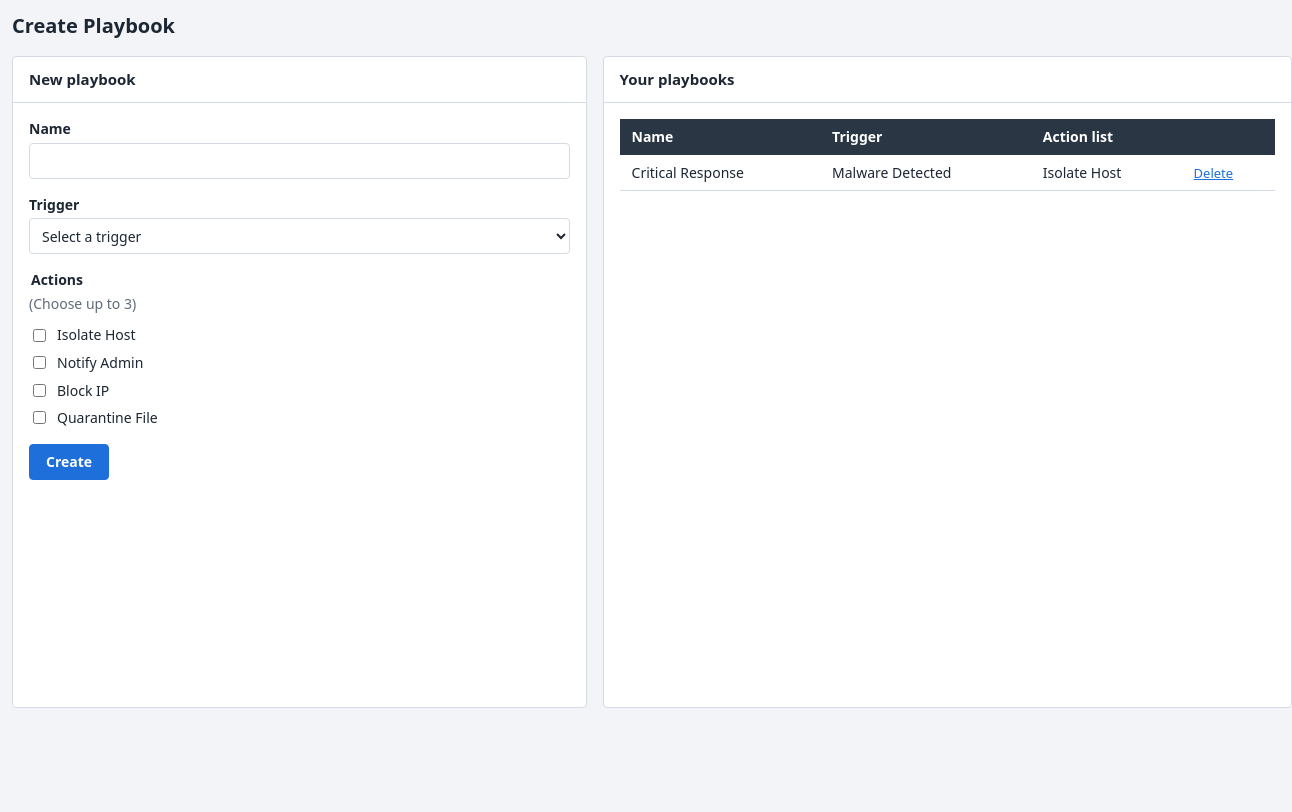
Test: CreatePlaybookPage › disables the fourth action once three are selected, and re-enables it on uncheck
The width and height of the screenshot is (1292, 812).
Click the checkbox labelled "Isolate Host": (40, 335) [33, 329, 46, 342]
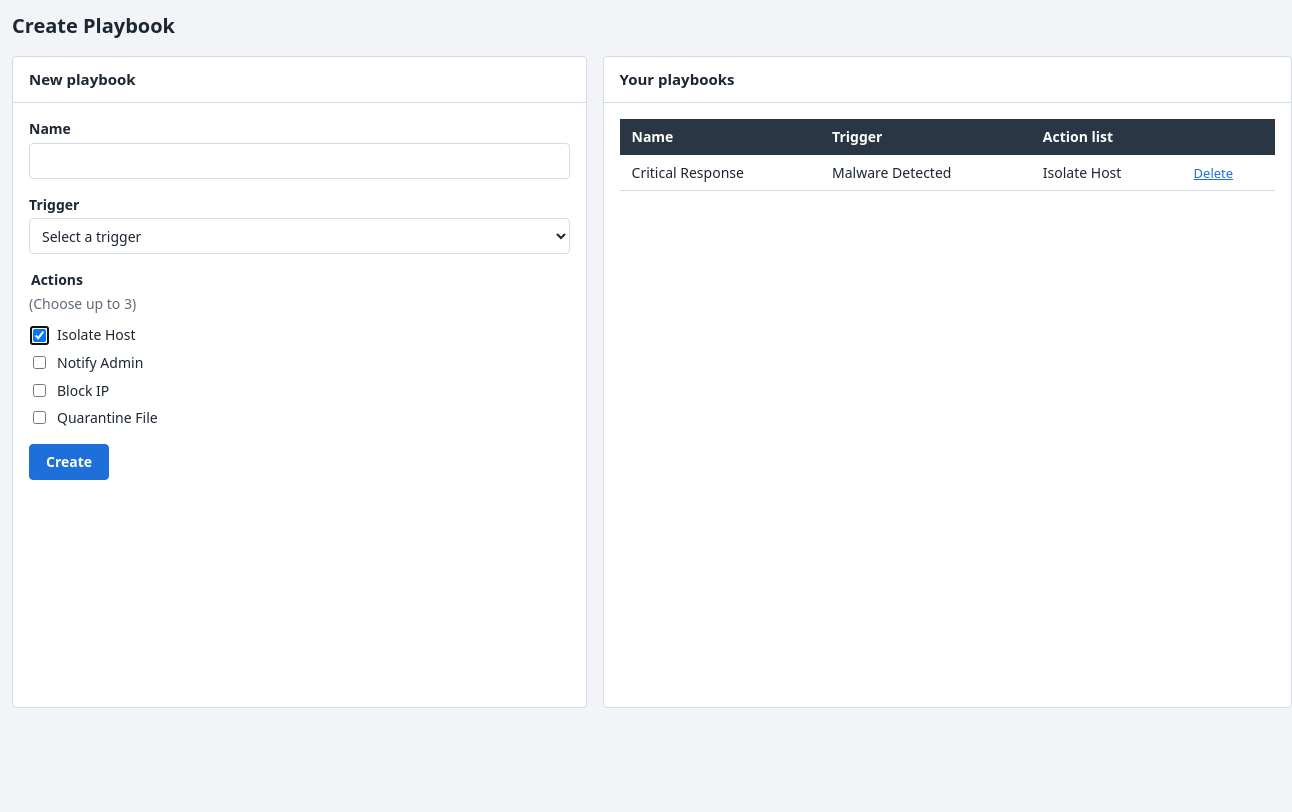
Click the checkbox labelled "Notify Admin": (40, 363) [33, 356, 46, 369]
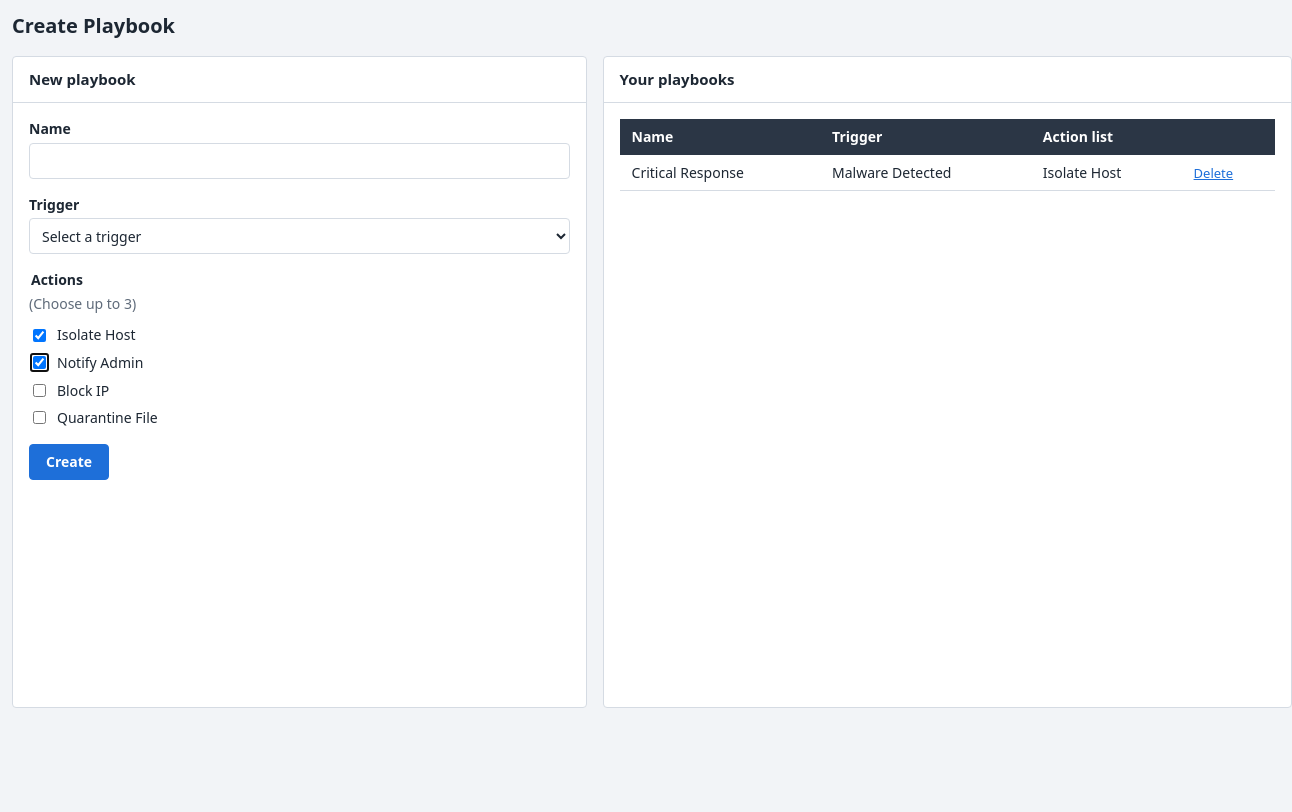
Click the checkbox labelled "Block IP": (40, 390) [33, 384, 46, 397]
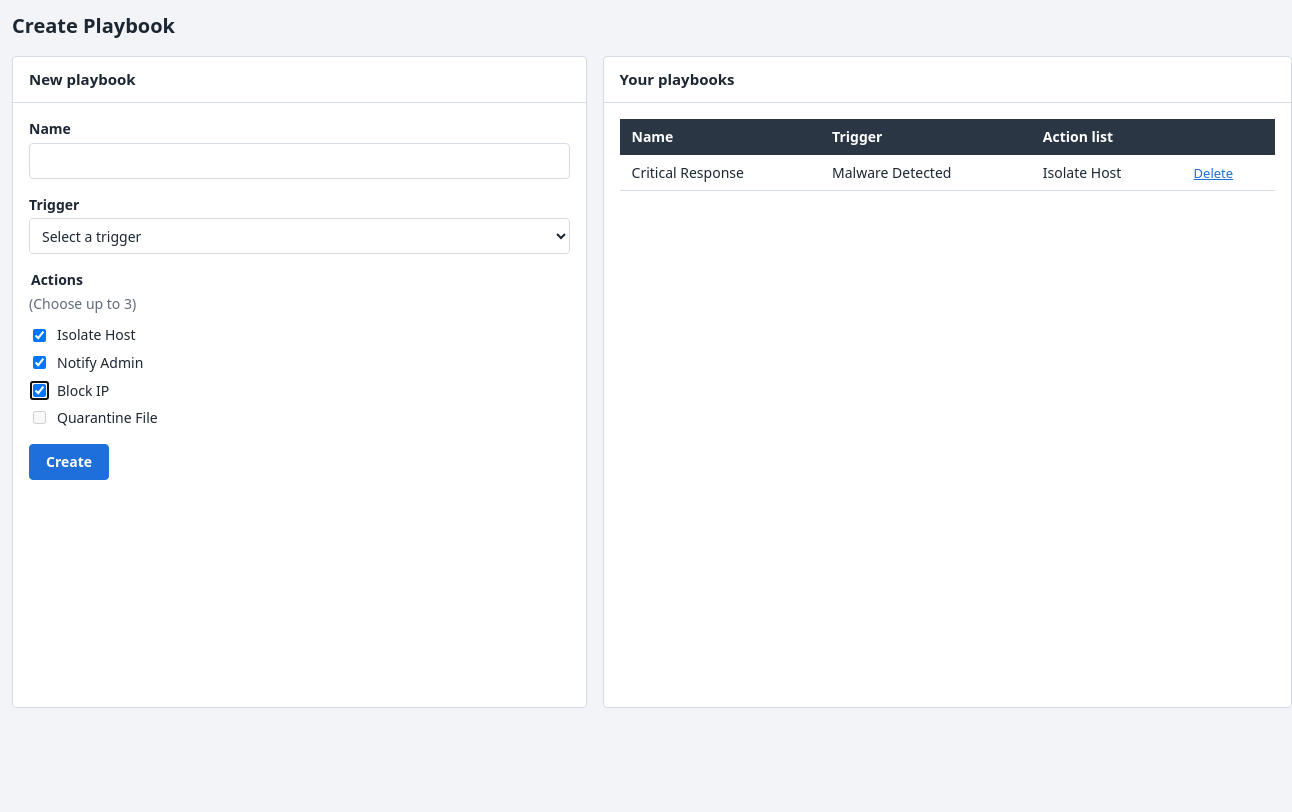
Expected: the checkbox labelled "Quarantine File" is disabled, [33, 412, 46, 424]
Click the checkbox labelled "Isolate Host": (40, 335) [33, 329, 46, 342]
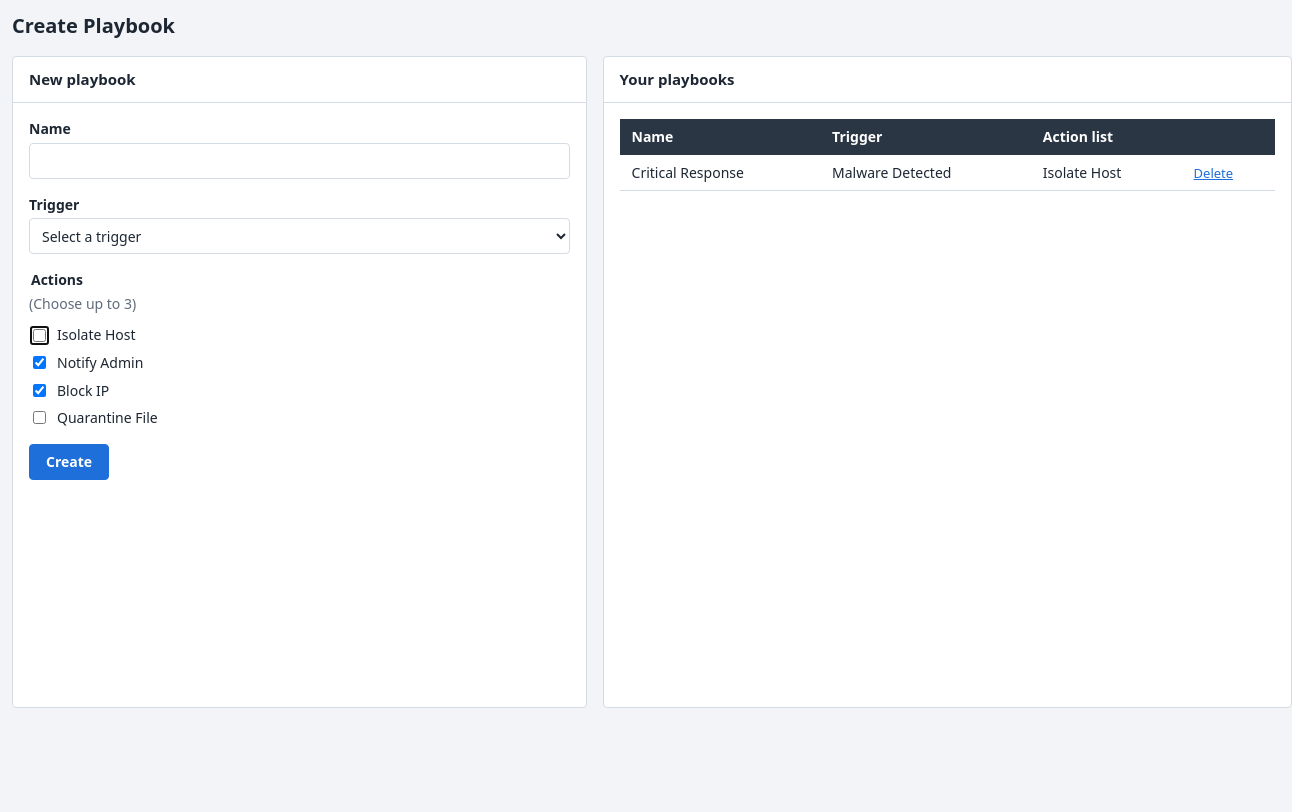
Expected: the checkbox labelled "Quarantine File" is enabled, [33, 412, 46, 424]
